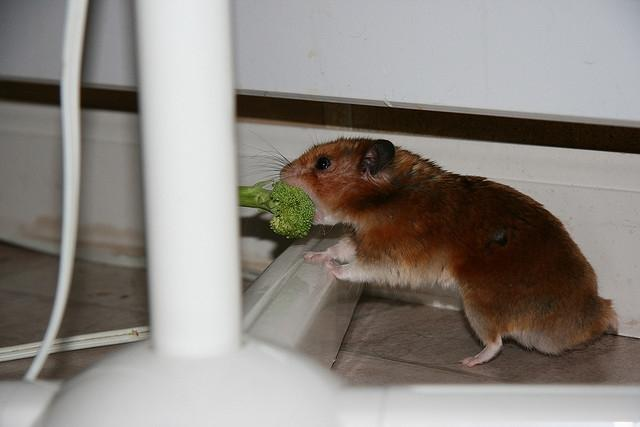broccoli: (238, 180, 316, 238)
